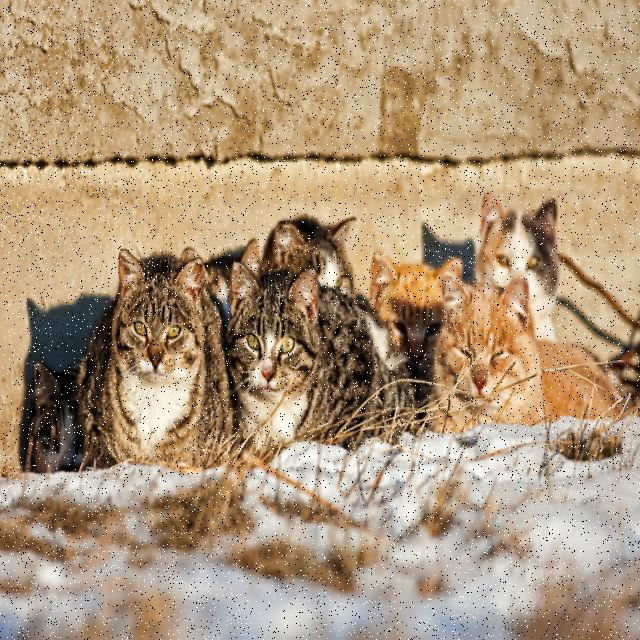cat: (226, 263, 412, 449), (79, 250, 232, 466), (429, 274, 622, 432), (476, 193, 559, 341), (371, 253, 462, 364), (260, 216, 354, 295), (28, 362, 82, 472), (204, 238, 260, 327)
